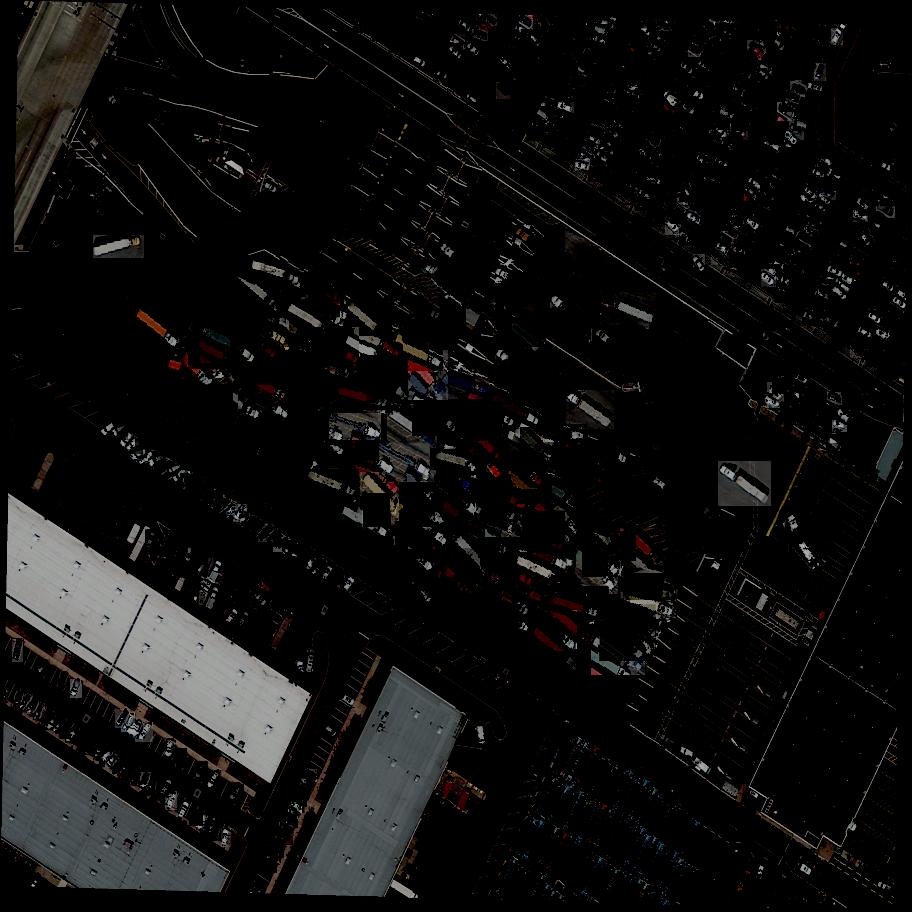large-vehicle: (436, 239, 487, 292), (420, 259, 474, 309), (618, 524, 669, 575), (359, 473, 408, 526), (609, 605, 658, 658), (717, 462, 772, 508), (785, 511, 824, 575), (670, 477, 722, 525), (188, 338, 233, 393), (630, 555, 685, 600), (512, 226, 567, 271), (225, 277, 276, 325), (411, 391, 464, 437), (591, 325, 645, 370), (535, 624, 583, 674), (434, 475, 485, 522), (493, 307, 545, 353), (199, 325, 261, 363), (445, 549, 493, 598), (452, 536, 499, 586), (294, 415, 344, 462), (385, 408, 439, 451), (591, 637, 649, 677), (344, 300, 395, 345), (397, 483, 445, 530), (494, 264, 549, 305), (285, 301, 341, 341), (519, 414, 566, 461), (390, 531, 438, 577), (405, 351, 450, 400), (530, 500, 575, 549), (549, 293, 594, 342), (522, 512, 566, 562), (493, 347, 544, 390), (343, 436, 399, 475), (574, 548, 619, 596), (546, 601, 595, 645), (287, 372, 331, 421), (463, 392, 519, 430), (106, 91, 144, 147), (322, 203, 381, 239), (589, 644, 633, 692), (597, 293, 659, 327), (134, 308, 183, 351), (347, 326, 405, 362), (515, 554, 573, 590), (312, 442, 356, 489), (365, 356, 409, 403), (599, 622, 647, 665), (488, 391, 545, 427), (483, 597, 533, 638), (289, 473, 347, 508), (394, 521, 446, 560), (464, 422, 509, 467), (566, 391, 616, 431), (184, 385, 234, 425), (187, 332, 241, 369), (395, 370, 450, 406), (308, 328, 360, 366), (584, 669, 640, 704), (609, 477, 658, 517), (648, 437, 691, 482), (238, 385, 293, 420), (378, 443, 433, 478), (505, 429, 558, 465), (229, 322, 279, 360), (407, 509, 453, 550), (294, 405, 346, 441), (485, 284, 545, 315), (392, 336, 445, 371), (229, 275, 282, 310), (534, 610, 578, 652), (242, 371, 299, 403), (340, 337, 397, 369), (582, 533, 622, 578), (362, 380, 416, 413), (340, 506, 392, 540), (409, 416, 474, 443), (249, 256, 305, 287), (461, 401, 504, 441), (306, 270, 345, 314), (555, 454, 607, 487), (261, 415, 310, 450), (619, 591, 678, 620), (438, 369, 494, 399), (305, 470, 361, 500), (622, 477, 683, 504), (478, 553, 538, 580), (292, 370, 347, 399), (287, 352, 346, 379), (501, 475, 554, 505), (327, 414, 383, 442), (344, 461, 402, 488), (437, 457, 476, 497), (628, 456, 670, 493), (587, 531, 637, 562), (470, 441, 506, 483), (257, 270, 299, 306), (335, 384, 393, 410), (476, 487, 519, 522), (437, 501, 485, 532), (483, 478, 528, 511), (614, 603, 667, 631), (664, 506, 703, 544), (519, 545, 578, 570), (166, 359, 222, 385), (433, 569, 483, 598), (679, 496, 717, 534), (547, 594, 602, 620), (502, 576, 546, 608), (400, 471, 438, 508), (431, 449, 485, 475), (272, 319, 322, 347), (543, 482, 589, 512), (230, 429, 273, 461), (265, 430, 301, 468), (477, 524, 517, 558), (322, 344, 355, 385), (510, 453, 547, 489), (567, 447, 618, 473), (245, 318, 290, 347), (426, 309, 467, 340), (493, 588, 534, 619), (224, 390, 267, 419), (295, 301, 351, 323), (93, 236, 146, 259), (623, 578, 677, 600), (565, 587, 610, 613), (560, 262, 603, 289), (546, 501, 585, 530), (591, 441, 632, 467), (362, 493, 391, 529), (313, 113, 357, 132), (485, 515, 523, 537), (542, 425, 588, 443), (736, 191, 758, 212), (535, 107, 555, 128), (662, 89, 682, 110), (640, 51, 659, 73), (801, 309, 822, 327), (782, 223, 804, 240), (825, 436, 845, 453), (304, 648, 317, 674), (822, 313, 841, 329), (794, 200, 813, 215), (792, 117, 812, 131), (594, 25, 613, 39), (842, 819, 859, 834), (419, 588, 434, 604), (477, 725, 486, 746)
small-vehicle: (208, 559, 227, 585), (205, 586, 223, 612), (855, 195, 877, 216), (872, 155, 895, 174), (758, 185, 779, 205), (767, 382, 787, 403), (632, 67, 652, 88), (819, 396, 839, 417), (754, 323, 773, 345), (197, 482, 215, 505), (874, 200, 897, 218), (698, 145, 718, 165), (748, 83, 768, 103), (747, 40, 767, 60), (779, 402, 799, 422), (87, 202, 108, 221), (776, 103, 797, 122), (598, 97, 619, 116), (883, 121, 902, 142), (762, 136, 784, 154), (728, 123, 750, 141), (631, 153, 653, 171), (353, 14, 372, 34), (258, 524, 278, 543), (77, 732, 96, 752), (227, 784, 246, 804), (135, 723, 154, 743), (757, 152, 777, 171), (758, 60, 778, 79), (736, 105, 756, 124), (652, 113, 672, 132), (678, 58, 698, 77), (871, 206, 890, 226), (555, 59, 577, 76), (766, 128, 788, 145), (446, 43, 465, 62), (710, 247, 729, 266), (728, 248, 747, 267), (724, 89, 743, 108), (781, 393, 800, 412), (832, 286, 851, 305), (790, 207, 809, 226), (309, 559, 329, 577), (528, 31, 546, 51), (722, 95, 740, 115), (712, 113, 733, 130), (843, 264, 865, 280), (199, 580, 211, 609), (231, 504, 249, 523), (288, 544, 306, 563), (448, 76, 466, 95), (479, 97, 497, 116), (120, 430, 138, 449), (111, 423, 130, 441), (100, 420, 119, 438), (752, 33, 770, 52), (770, 121, 789, 139), (744, 216, 763, 234), (766, 178, 784, 197), (696, 153, 714, 172), (752, 75, 771, 93), (676, 108, 694, 127), (676, 65, 694, 84), (802, 183, 821, 201), (848, 340, 867, 358), (828, 426, 847, 444), (712, 155, 732, 172), (674, 73, 691, 93), (809, 209, 829, 226), (207, 770, 223, 791), (159, 778, 175, 799), (189, 546, 204, 568), (750, 161, 772, 176), (686, 87, 708, 102), (256, 578, 274, 596), (172, 467, 190, 485), (802, 56, 820, 74), (757, 26, 775, 44), (776, 239, 794, 257), (746, 207, 764, 225), (665, 217, 683, 235), (676, 192, 694, 210), (726, 132, 744, 150), (679, 228, 697, 246), (623, 51, 641, 69), (630, 36, 648, 54), (817, 318, 835, 336), (830, 295, 848, 313), (813, 159, 831, 177), (816, 191, 834, 209), (864, 224, 882, 242), (341, 575, 358, 594), (276, 828, 295, 845), (507, 40, 526, 57), (136, 451, 155, 468), (115, 709, 132, 728), (774, 111, 791, 130), (739, 224, 758, 241), (788, 121, 805, 140), (761, 51, 780, 68), (695, 26, 712, 45), (793, 370, 812, 387), (869, 333, 888, 350), (866, 217, 885, 234), (195, 762, 211, 782), (527, 126, 547, 142), (129, 719, 145, 739), (122, 714, 138, 734), (789, 81, 809, 97), (768, 255, 788, 271), (745, 92, 765, 108), (613, 68, 633, 84), (805, 301, 825, 317), (111, 754, 126, 775), (715, 23, 736, 38), (145, 530, 159, 552), (207, 491, 225, 508), (118, 759, 135, 777), (458, 16, 476, 33), (627, 170, 644, 188), (637, 187, 655, 204), (186, 478, 203, 496), (744, 186, 762, 203), (760, 270, 778, 287), (739, 98, 757, 115), (713, 123, 731, 140), (737, 66, 755, 83), (744, 49, 761, 67), (788, 255, 805, 273), (647, 131, 664, 149), (771, 377, 789, 394), (661, 734, 679, 751), (657, 147, 674, 165), (696, 60, 714, 77), (628, 75, 645, 93), (702, 54, 720, 71), (621, 94, 639, 111), (839, 271, 857, 288), (832, 162, 850, 179), (801, 224, 819, 241), (810, 167, 828, 184), (320, 563, 336, 582), (630, 164, 649, 180), (562, 45, 581, 61), (536, 14, 552, 33), (521, 47, 537, 66), (805, 50, 824, 66), (714, 241, 733, 257), (781, 96, 800, 112), (692, 159, 708, 178), (682, 221, 701, 237), (670, 83, 689, 99), (824, 303, 843, 319), (840, 400, 859, 416), (845, 222, 864, 238), (204, 815, 219, 835), (125, 440, 145, 455), (70, 679, 85, 699), (677, 744, 697, 759), (775, 369, 795, 384), (825, 264, 845, 279), (253, 591, 270, 608), (330, 571, 347, 588), (468, 34, 485, 51), (464, 43, 481, 60), (512, 32, 529, 49), (495, 83, 512, 100), (502, 79, 519, 96), (774, 28, 791, 45), (770, 36, 787, 53), (681, 185, 698, 202), (684, 178, 701, 195), (688, 169, 705, 186), (733, 115, 750, 132), (698, 187, 715, 204), (731, 83, 748, 100), (620, 60, 637, 77), (648, 38, 665, 55), (698, 19, 715, 36), (818, 152, 835, 169), (819, 278, 836, 295), (836, 279, 853, 296), (835, 408, 852, 425), (226, 609, 242, 627), (339, 692, 357, 708), (267, 530, 283, 548), (93, 743, 109, 761), (196, 812, 212, 830), (450, 34, 468, 50), (595, 150, 613, 166), (552, 110, 570, 126), (575, 31, 591, 49), (37, 659, 53, 677), (747, 176, 765, 192), (719, 233, 737, 249), (809, 42, 827, 58), (779, 274, 797, 290), (784, 132, 802, 148), (705, 138, 721, 156), (794, 242, 812, 258), (668, 122, 684, 140), (680, 102, 698, 118), (691, 37, 709, 53), (813, 201, 831, 217), (238, 611, 253, 630), (46, 712, 61, 731), (538, 100, 557, 115), (729, 209, 748, 224), (756, 196, 775, 211), (740, 59, 759, 74), (779, 361, 798, 376), (830, 254, 849, 269), (798, 233, 817, 248), (885, 260, 904, 275), (861, 192, 880, 207), (100, 745, 114, 765), (147, 455, 167, 469), (656, 108, 676, 122), (590, 117, 610, 131), (12, 639, 24, 662), (176, 748, 189, 769), (293, 790, 309, 807), (371, 25, 387, 42), (304, 555, 320, 572), (287, 804, 303, 821), (105, 752, 121, 769), (611, 118, 627, 135), (592, 159, 609, 175), (577, 64, 593, 81), (565, 80, 582, 96), (623, 188, 639, 205), (412, 54, 429, 70), (549, 118, 565, 135), (499, 55, 515, 72), (590, 41, 607, 57), (814, 35, 831, 51), (765, 264, 782, 280), (776, 282, 793, 298), (796, 104, 812, 121), (655, 21, 672, 37), (792, 249, 809, 265), (661, 138, 677, 155), (652, 155, 669, 171), (628, 45, 644, 62), (688, 43, 705, 59), (827, 168, 844, 184), (859, 232, 875, 249), (868, 182, 885, 198), (273, 537, 291, 552), (131, 769, 146, 787), (638, 148, 656, 163), (581, 141, 599, 156), (514, 25, 532, 40), (531, 119, 549, 134), (760, 146, 778, 161), (782, 233, 800, 248), (717, 147, 735, 162), (665, 132, 683, 147), (684, 95, 702, 110), (693, 254, 708, 272), (805, 217, 823, 232), (825, 177, 843, 192), (854, 334, 872, 349), (837, 239, 855, 254), (475, 18, 494, 32), (599, 144, 618, 158), (591, 33, 610, 47), (576, 24, 595, 38), (129, 447, 148, 461), (203, 41, 217, 60), (749, 170, 768, 184), (721, 226, 740, 240), (785, 90, 804, 104), (764, 394, 783, 408), (652, 32, 671, 46), (813, 287, 832, 301), (874, 293, 890, 309), (282, 541, 298, 557), (578, 149, 594, 165), (640, 22, 656, 38), (774, 247, 790, 263), (735, 76, 751, 92), (647, 47, 663, 63), (323, 723, 340, 738), (298, 549, 313, 566), (86, 738, 101, 755), (20, 695, 35, 712), (518, 15, 535, 30), (466, 90, 483, 105), (494, 61, 511, 76), (687, 211, 704, 226), (857, 325, 874, 340), (794, 74, 812, 88), (779, 147, 797, 161), (877, 880, 895, 894), (596, 109, 614, 123), (609, 86, 627, 100), (785, 387, 803, 401), (788, 217, 806, 231), (813, 418, 831, 432), (881, 194, 899, 208), (164, 792, 177, 811), (645, 174, 664, 187), (524, 42, 543, 55), (814, 64, 827, 83), (719, 141, 738, 154), (701, 289, 720, 302), (613, 111, 632, 124), (709, 39, 728, 52), (217, 497, 233, 512), (283, 812, 299, 827), (190, 810, 205, 826), (586, 134, 602, 149), (578, 55, 594, 70), (762, 20, 778, 35), (758, 69, 773, 85), (664, 100, 679, 116), (707, 44, 722, 60), (866, 352, 881, 368), (238, 511, 255, 525), (279, 822, 296, 836), (27, 699, 41, 716), (634, 198, 651, 212), (767, 43, 781, 60), (735, 202, 752, 216), (727, 218, 744, 232), (850, 217, 867, 231), (544, 127, 562, 140), (724, 259, 742, 272), (831, 29, 844, 47), (701, 182, 719, 195), (705, 173, 723, 186), (693, 196, 711, 209), (708, 131, 726, 144), (671, 118, 689, 131), (648, 166, 666, 179), (695, 70, 713, 83), (625, 87, 643, 100), (823, 273, 841, 286), (847, 258, 865, 271), (164, 738, 175, 759), (731, 244, 750, 256), (824, 46, 836, 65), (301, 776, 316, 791), (581, 15, 596, 30), (591, 126, 606, 141), (712, 29, 727, 44), (290, 799, 306, 813), (483, 13, 499, 27), (604, 134, 618, 150), (570, 74, 586, 88), (636, 30, 652, 44), (617, 102, 633, 116), (261, 860, 278, 873), (557, 101, 574, 114), (388, 40, 405, 53), (264, 181, 281, 194), (673, 204, 690, 217), (690, 79, 707, 92), (604, 95, 621, 108), (799, 193, 816, 206), (820, 187, 837, 200), (833, 248, 850, 261), (853, 210, 870, 223), (34, 703, 46, 721), (431, 70, 449, 82), (807, 83, 825, 95), (669, 212, 687, 224), (718, 109, 736, 121), (875, 329, 893, 341), (225, 502, 239, 517), (613, 78, 628, 92), (197, 555, 208, 574), (867, 454, 878, 473), (507, 73, 523, 86), (774, 164, 790, 177), (827, 392, 843, 405), (14, 691, 26, 708), (268, 846, 285, 858), (472, 29, 489, 41), (798, 67, 815, 79), (815, 27, 832, 39), (690, 205, 707, 217), (832, 420, 849, 432), (174, 540, 184, 560), (60, 721, 71, 739), (140, 773, 151, 791), (574, 160, 592, 171), (774, 156, 792, 167), (65, 729, 79, 743), (814, 296, 828, 310), (304, 770, 320, 782), (600, 19, 616, 31), (625, 181, 641, 193), (773, 291, 789, 303), (752, 204, 768, 216), (638, 66, 654, 78), (296, 661, 306, 680), (222, 828, 232, 847), (607, 129, 624, 140), (640, 183, 657, 194), (532, 26, 549, 37), (541, 138, 558, 149), (167, 465, 184, 476), (181, 475, 198, 486), (808, 178, 825, 189), (246, 517, 260, 530), (410, 18, 425, 30), (544, 92, 559, 104), (184, 545, 194, 563), (769, 173, 784, 185), (783, 267, 798, 279), (252, 523, 268, 534), (588, 171, 604, 182), (59, 671, 70, 687), (805, 91, 821, 102), (800, 100, 816, 111), (652, 125, 668, 136), (781, 141, 798, 151), (756, 865, 766, 882), (881, 321, 896, 332), (147, 776, 156, 794), (560, 92, 576, 102), (56, 717, 65, 734), (267, 854, 281, 864), (240, 53, 248, 70), (746, 589, 755, 604), (513, 66, 526, 76), (549, 85, 563, 94), (884, 314, 898, 323), (778, 24, 792, 32), (215, 821, 220, 838)
